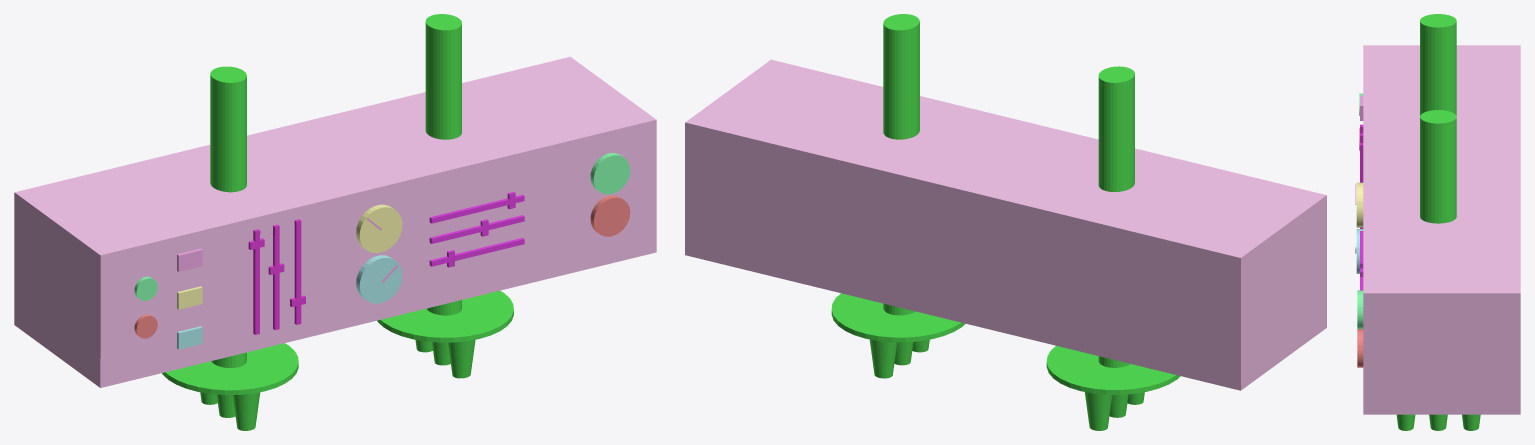
File: jedinica3.1.fbx
3 renders of one model, left to right at view 1: azimuth 30°, elevation 25°; view 2: azimuth 150°, elevation 25°; view 3: azimuth 270°, elevation 25°, orthographic. The views are drawn at different scales.
Parts seen in each view (by area): view 1: Cube_009, Cylinder.005, Cylinder.008, Cube_009.015, Cube_009.016, Cube_009.012, Cube_009.014, Cube_009.019, Cube_009.017, Cube_009.018, Cube_009.020, Cube_009.021 (+1 smaller); view 2: Cube_009, Cylinder.005, Cylinder.008; view 3: Cube_009, Cylinder.005, Cylinder.008, Cube_009.015, Cube_009.012, Cube_009.014, Cube_009.016.
Part boxes in pixels (x1,y1,x2,y2): Cube_009: (14, 56, 656, 387); Cylinder.005: (377, 14, 513, 378); Cylinder.008: (162, 66, 298, 430); Cube_009.015: (356, 204, 402, 253); Cube_009.016: (356, 255, 402, 303); Cube_009.012: (590, 153, 630, 194); Cube_009.014: (590, 195, 630, 236); Cube_009.019: (294, 219, 301, 324); Cube_009.017: (253, 229, 260, 334); Cube_009.018: (273, 224, 279, 329); Cube_009.020: (429, 194, 524, 223); Cube_009.021: (429, 215, 524, 243); Cube_009: (685, 59, 1326, 390); Cylinder.005: (831, 14, 965, 378); Cylinder.008: (1046, 66, 1180, 430); Cube_009: (1363, 45, 1520, 414); Cylinder.005: (1396, 110, 1480, 430); Cylinder.008: (1420, 14, 1456, 115); Cube_009.015: (1356, 182, 1363, 227); Cube_009.012: (1357, 290, 1363, 328); Cube_009.014: (1357, 329, 1363, 367); Cube_009.016: (1356, 229, 1363, 273).
Size of the model in its own units: 1358 by 793 by 383.
